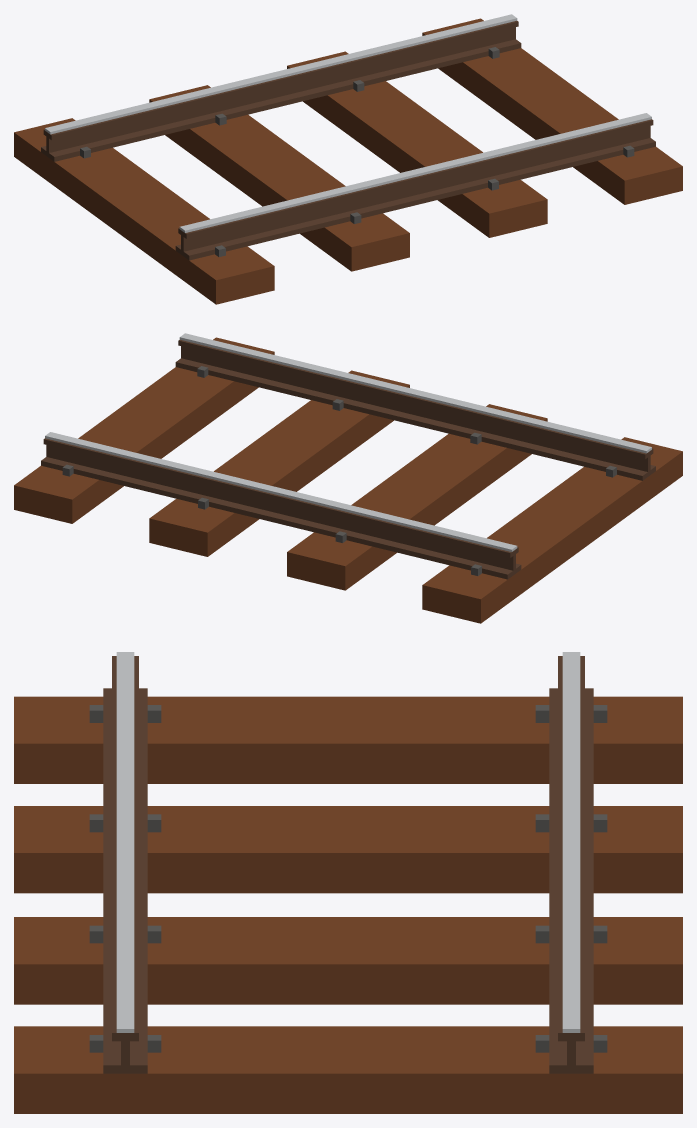
File: railroad_track_small.glb
The picture shows the model from 3 angles, top to bottom: view 1: azimuth 30°, elevation 25°; view 2: azimuth 150°, elevation 25°; view 3: azimuth 270°, elevation 25°; orthographic projection. The views are drawn at different scales.
Parts seen in each view (by area): view 1: railroad_track_small:compound; view 2: railroad_track_small:compound; view 3: railroad_track_small:compound.
Part boxes in pixels (bbox=[...]): railroad_track_small:compound: bbox=[14, 14, 682, 304]; railroad_track_small:compound: bbox=[14, 333, 682, 623]; railroad_track_small:compound: bbox=[14, 652, 682, 1113].
Bounding box in the file's own units: 1.2 × 0.126 × 0.9.
